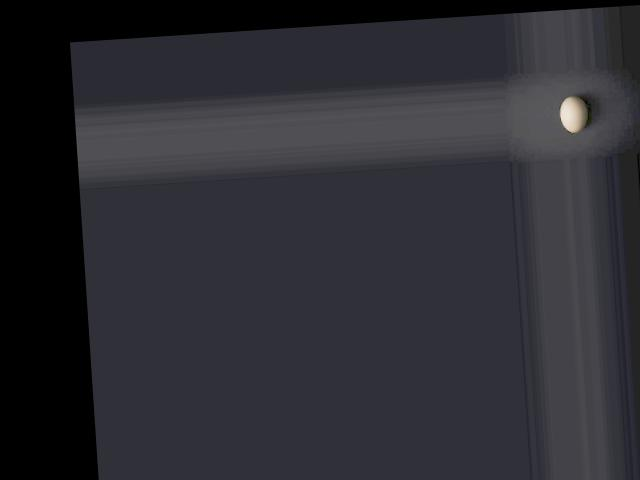egg: (558, 94, 587, 134)
